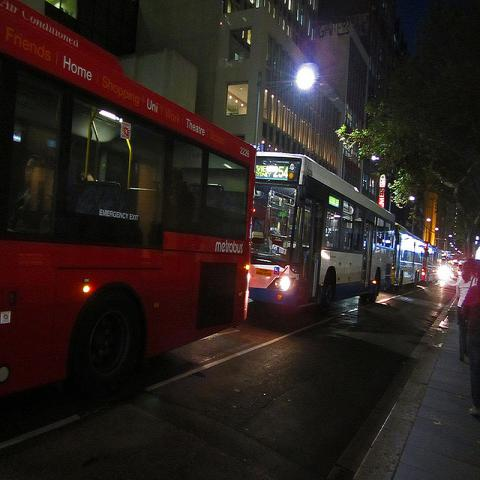bus: (1, 0, 257, 421), (249, 148, 397, 312), (394, 226, 430, 288), (427, 245, 443, 281)
